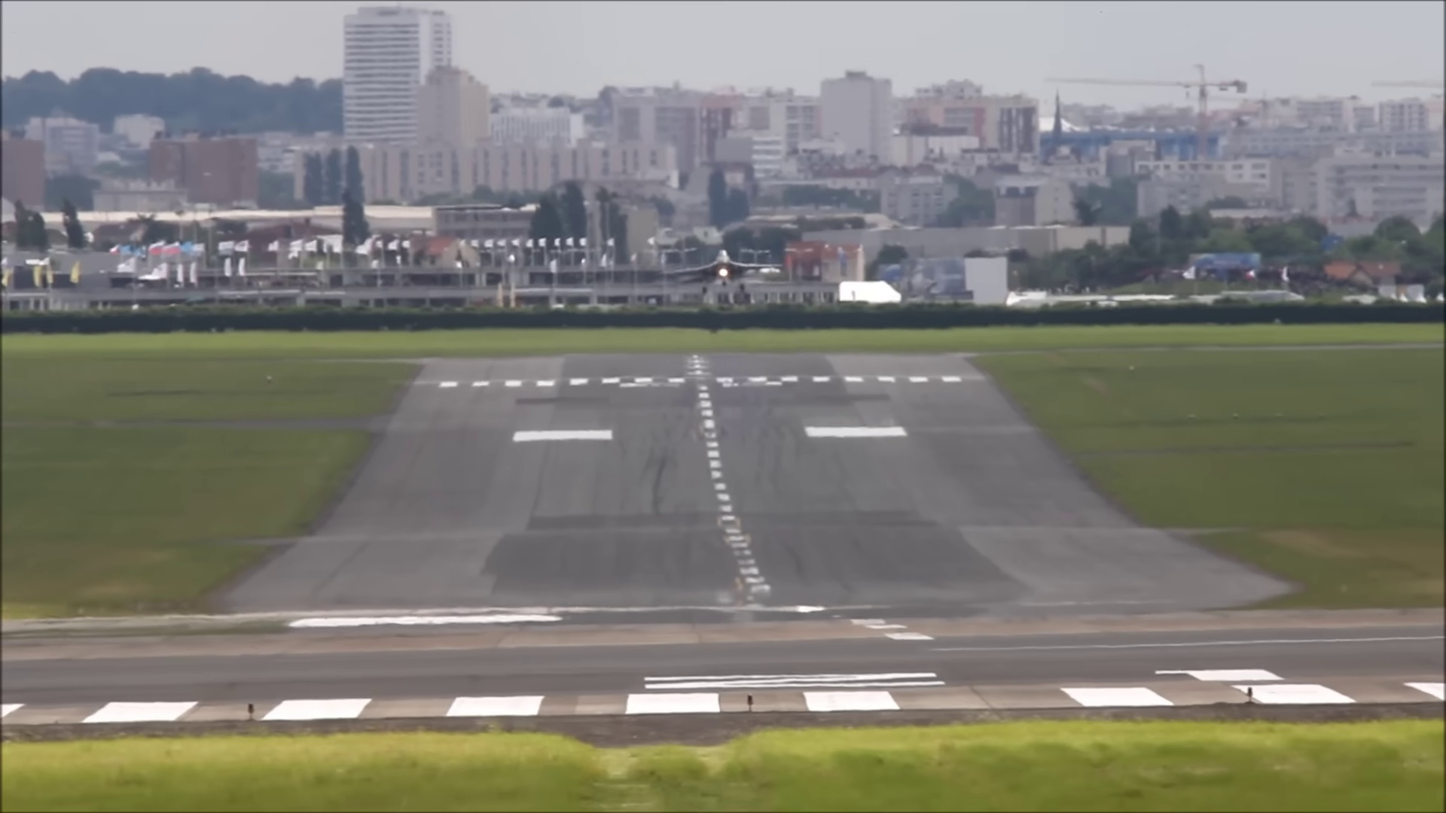Su35: (648, 238, 783, 289)
